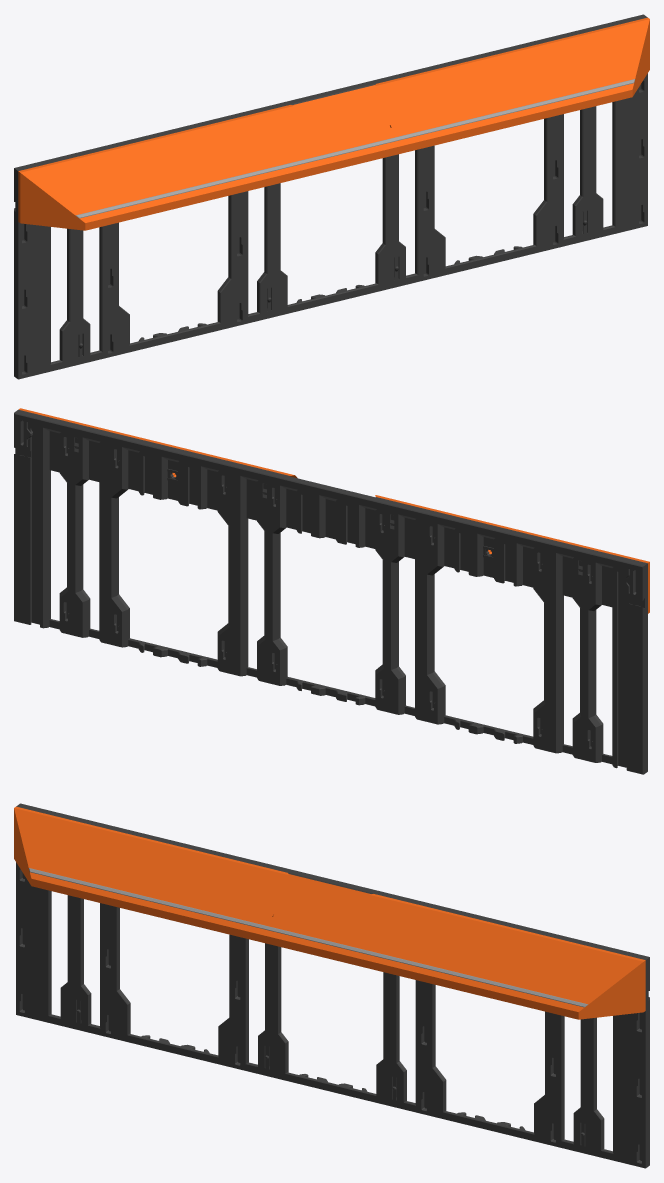
File: Faceplate_ClassicPro_4W-2H.lib.glb
3 views of the same model, one above another, from view 1: azimuth 30°, elevation 25°; view 2: azimuth 150°, elevation 25°; view 3: azimuth 330°, elevation 25° (orthographic).
Visible parts, largest first — view 1: Faceplate_ClassicPro_4W-2H; view 2: Faceplate_ClassicPro_4W-2H; view 3: Faceplate_ClassicPro_4W-2H.
Part boxes in pixels (<box>): Faceplate_ClassicPro_4W-2H: <box>14,14,649,379</box>; Faceplate_ClassicPro_4W-2H: <box>14,408,649,774</box>; Faceplate_ClassicPro_4W-2H: <box>14,803,649,1168</box>.
Size of the model in its own units: 351 by 111 by 29.48.
